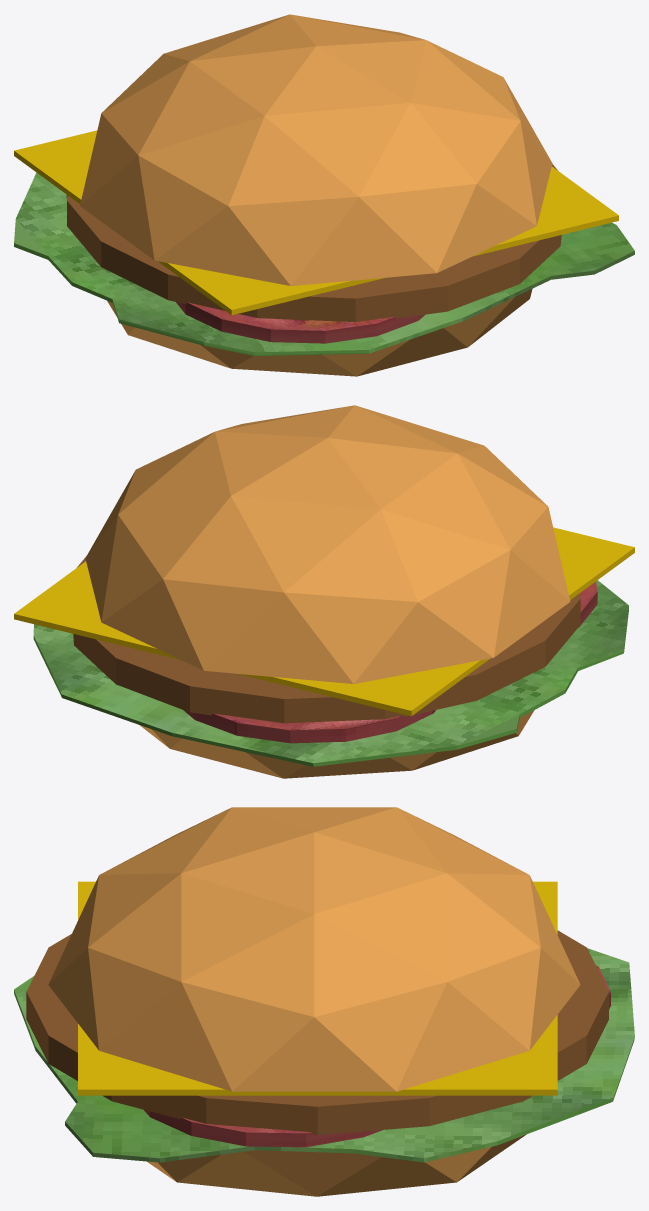
File: Byterbrod.fbx
3 views of the same model, one above another, from view 1: azimuth 30°, elevation 25°; view 2: azimuth 150°, elevation 25°; view 3: azimuth 270°, elevation 25° (orthographic). The views are drawn at different scales.
Visible parts, largest first — view 1: Icosphere.007; view 2: Icosphere.007; view 3: Icosphere.007.
Part boxes in pixels (x1=…): Icosphere.007: x1=14, y1=14, x2=634, y2=376; Icosphere.007: x1=14, y1=405, x2=634, y2=778; Icosphere.007: x1=14, y1=807, x2=634, y2=1196.
Bounding box in the file's own units: 46.97 × 22.88 × 47.89.
